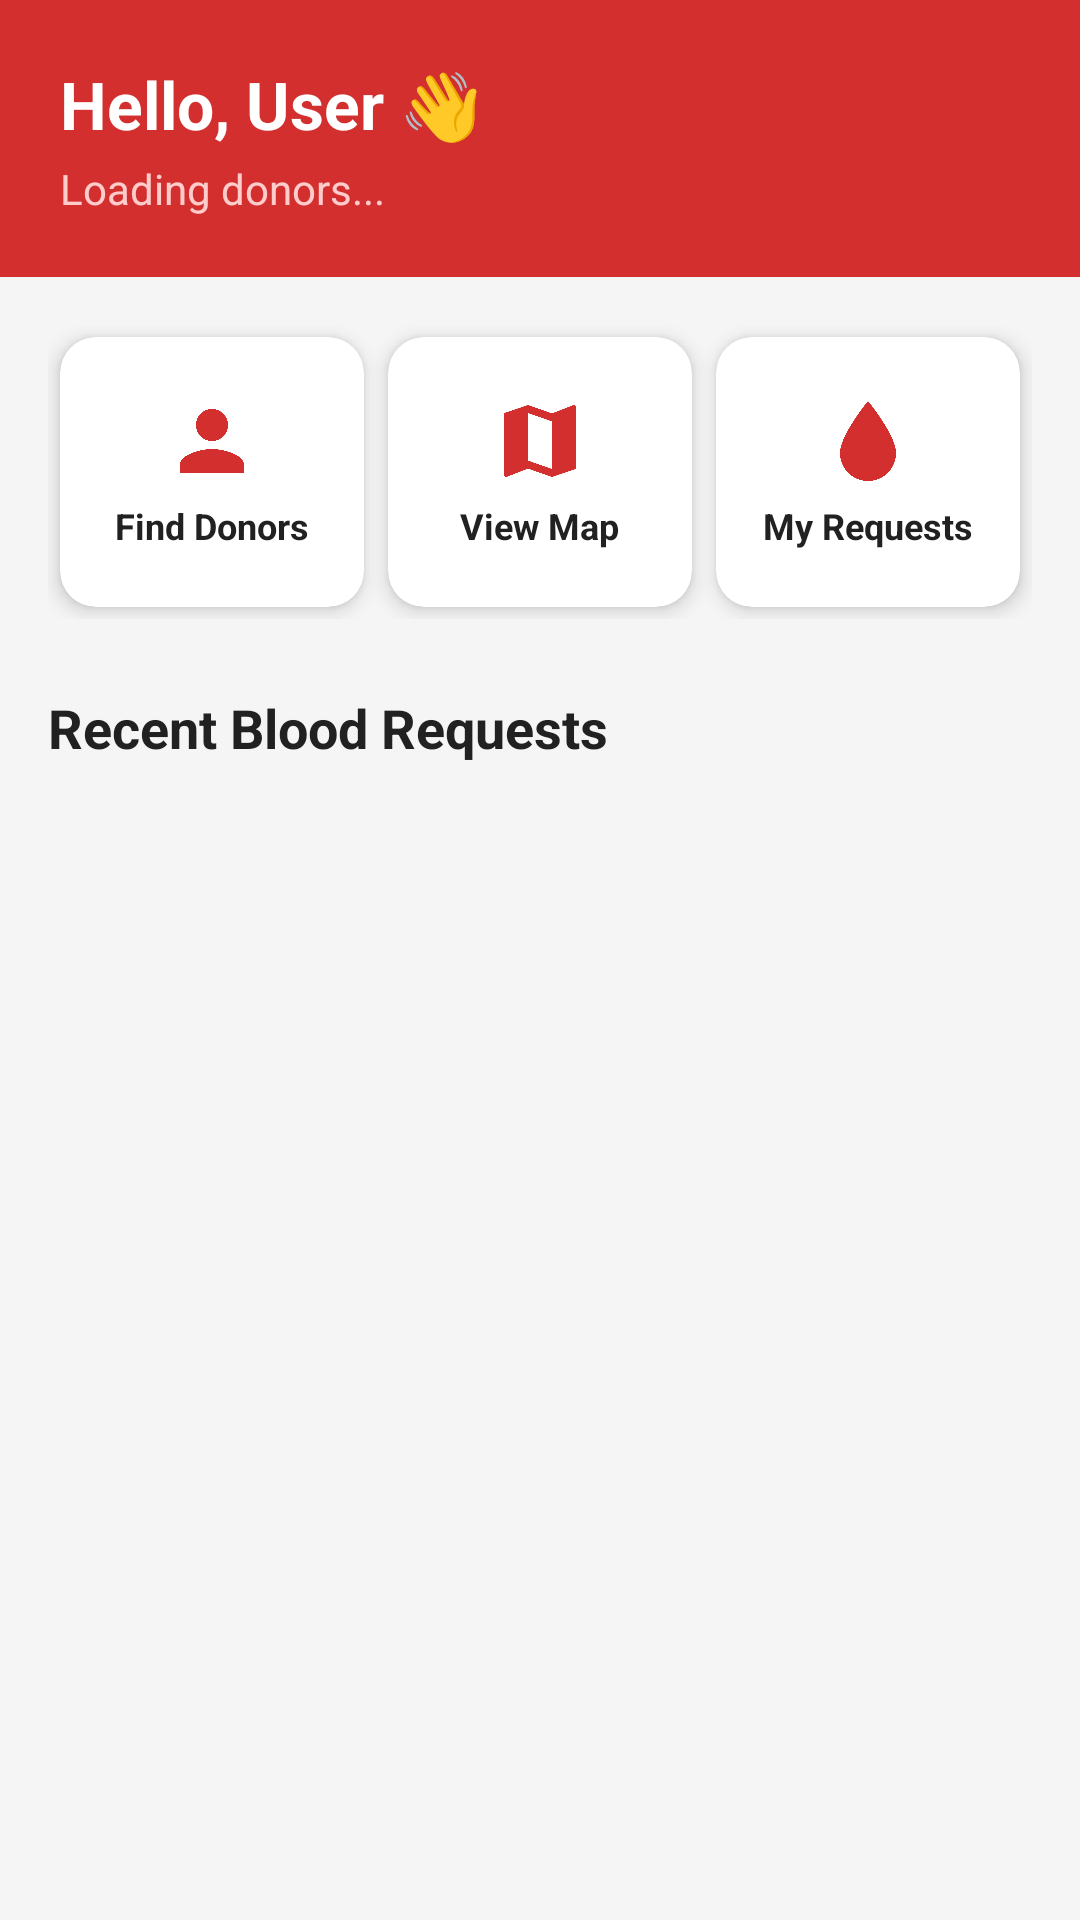

Screen size 1080*1920. Icon name, then its center in pixels as point (x, y):
blooddrop: point (868, 441)
person: point (212, 441)
